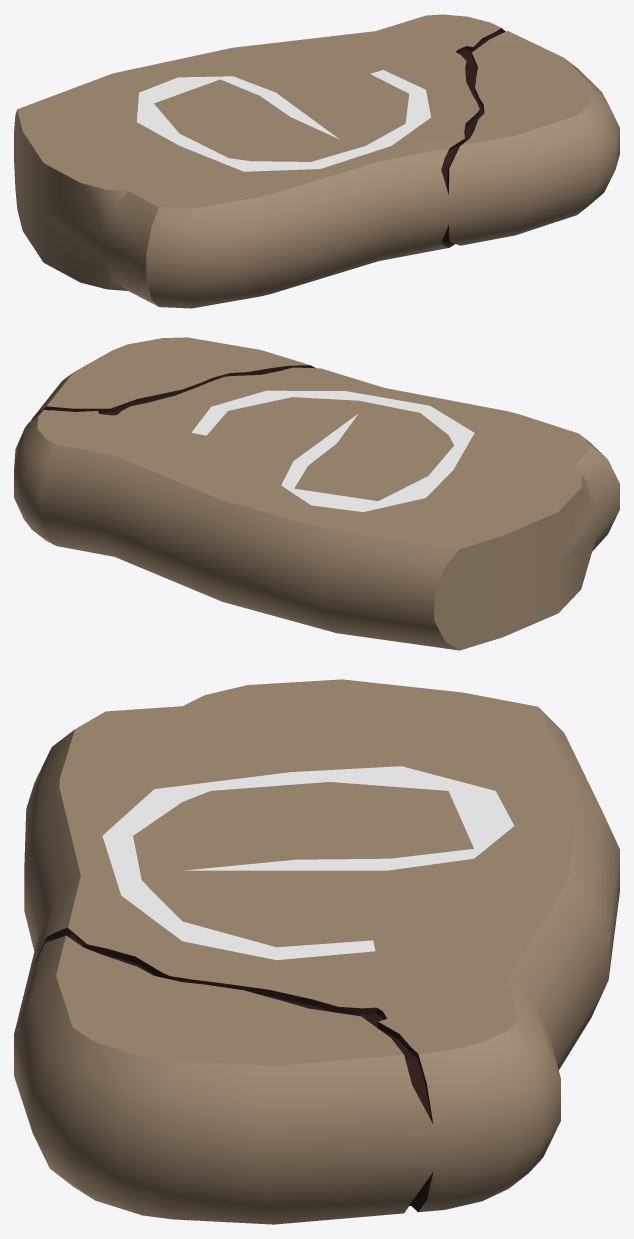
File: Mystical Rune Platform.fbx
3 renders of one model, top to bottom at view 1: azimuth 30°, elevation 25°; view 2: azimuth 150°, elevation 25°; view 3: azimuth 270°, elevation 25°, orthographic. The views are drawn at different scales.
Visible parts, largest first — view 1: Cube.001; view 2: Cube.001; view 3: Cube.001.
Boxes of the visible parts, <box> form: Cube.001: <box>14,14,619,308</box>; Cube.001: <box>14,337,619,650</box>; Cube.001: <box>14,679,619,1224</box>.
Size of the model in its own units: 3.28 by 0.6009 by 2.08.
1 material, 1 textured.
